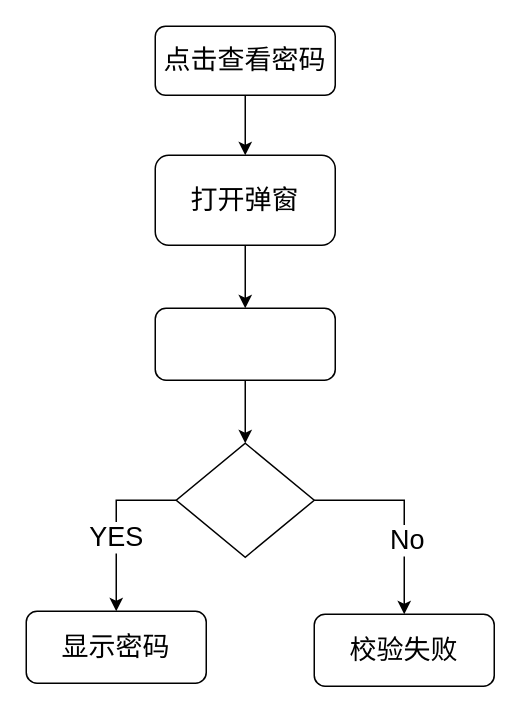
This 521x713 diagram has some shape labels left out. Each missing label, with the centre of its shape:
"判断验证 码是否正确" belongs at [244,499].
"点击获取 验证码" belongs at [244,343].
